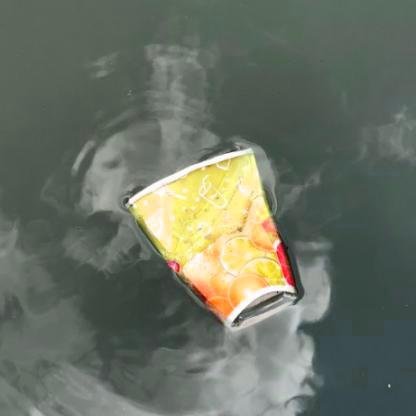Plastic: (119, 144, 305, 332)
